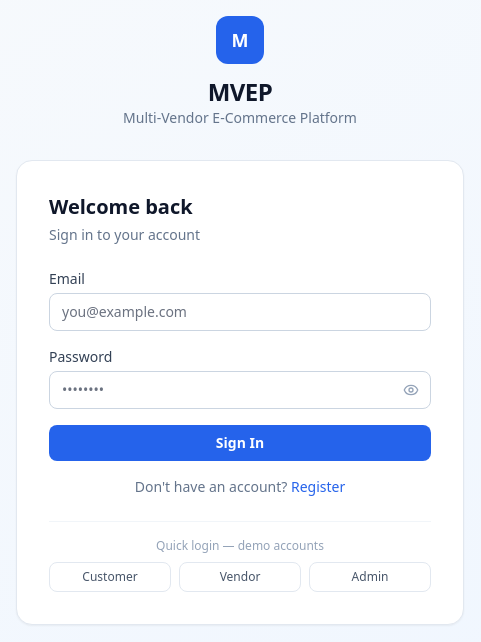
Test case: LoginPage › Customer demo button fills the email field with the customer email
Click the button "Customer": point(110, 576) [49, 562, 171, 592]
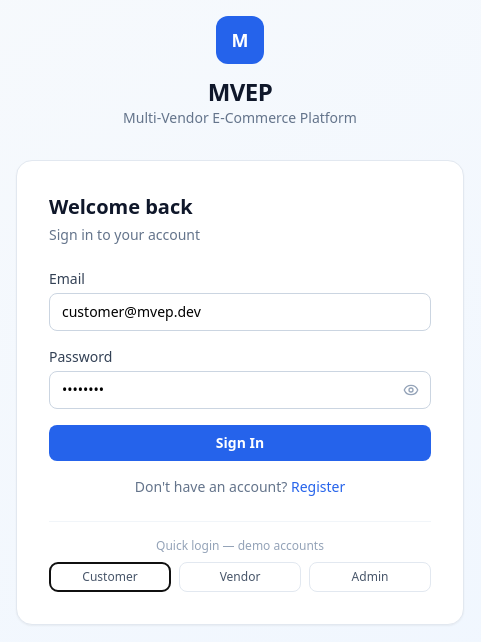
Check: the field with placeholder "you@example.com" holds "customer@mvep.dev", box [49, 292, 431, 330]
